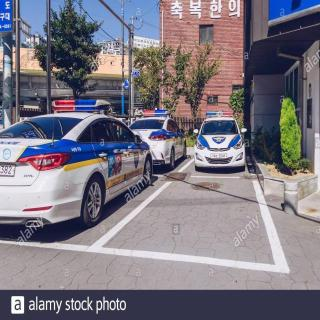Police_car: (0, 97, 154, 227), (130, 109, 188, 168), (192, 110, 248, 170)
